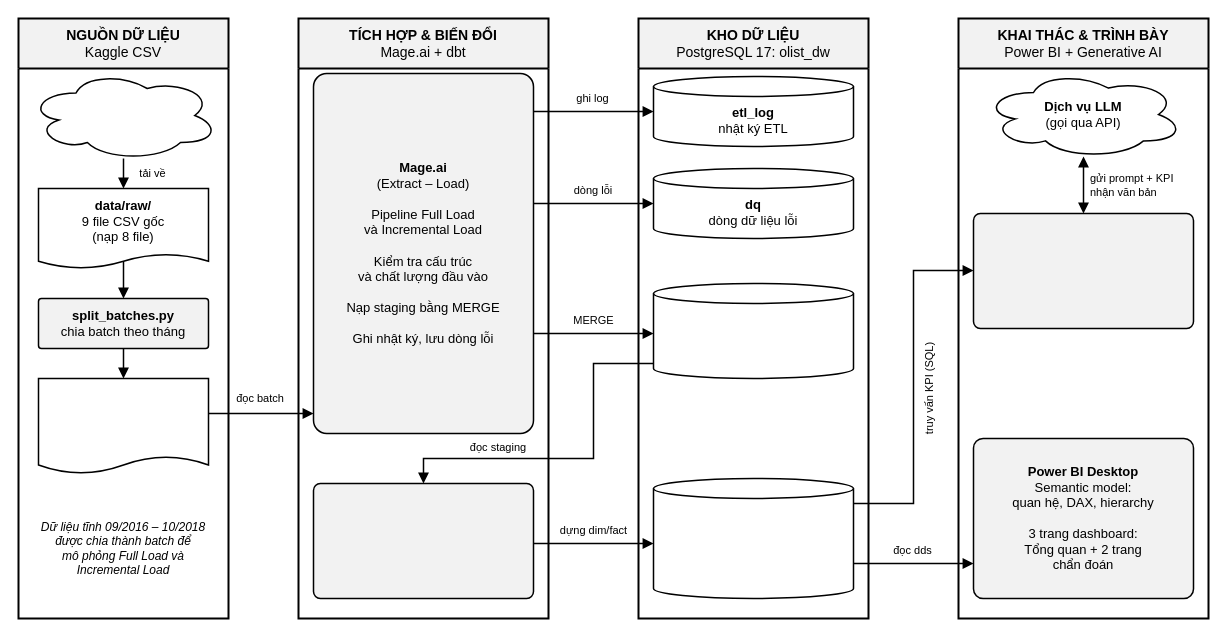
This 1226x636 diagram has some shape labels left out. Here are the shapes that lost their labels. From the top down, the centre of each, then its label:
the point at 123,115: Kaggle Olist Brazilian E-Commerce
the point at 1083,270: Module AI (Python) Tóm tắt KPI Giải thích biến động Hỏi đáp ngôn ngữ tự nhiên
the point at 753,330: staging 8 bảng giữ nguyên cấu trúc CSV
the point at 123,425: data/batches/ 10 batch: FULL, 2018-01 … 2018-08, 2018-09+
the point at 423,540: dbt (Transform) stg_ → int_ → dim_ / fact_ dbt test, dbt docs, seed
the point at 753,538: dds 3 fact + 6 dim (lược đồ Galaxy)
